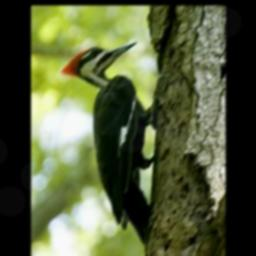Woodpecker: (60, 42, 159, 245)
